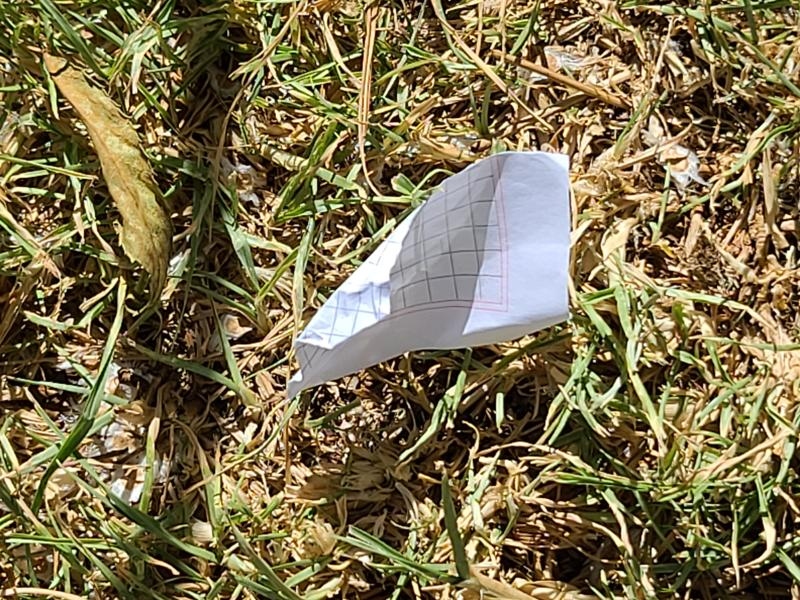papel: (289, 151, 573, 397)
